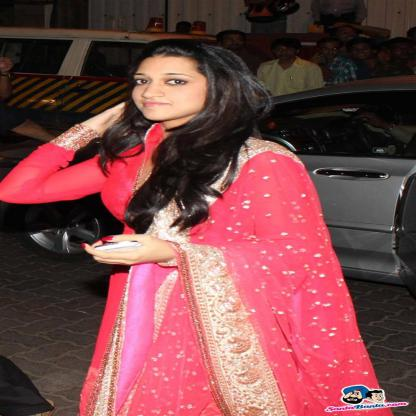face: (132, 57, 214, 122), (391, 43, 415, 60), (223, 34, 246, 51), (321, 42, 342, 60), (275, 45, 298, 60), (352, 45, 373, 61), (337, 28, 359, 43), (179, 25, 191, 34)
